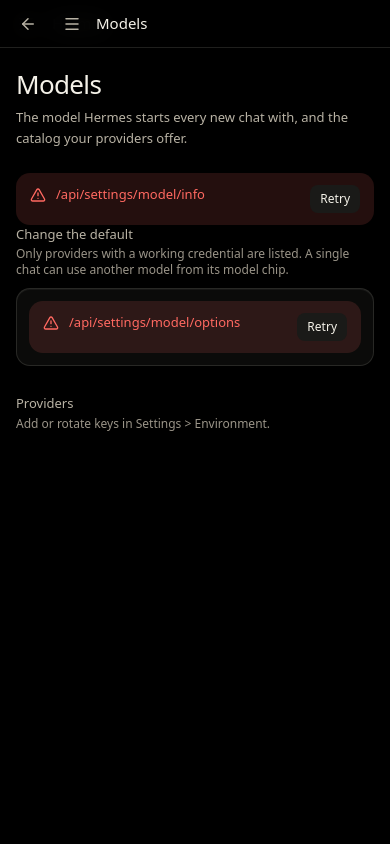
Test case: SettingsLayout mobile shell › opens the drawer with search and all sections
The image size is (390, 844).
Click the button named "Open Settings navigation": coordinates (72, 24) [52,4,92,44]
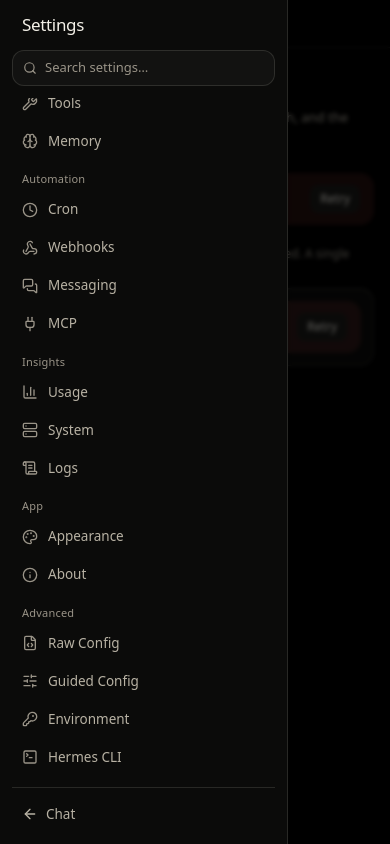
Expected: the button named "Open Settings navigation" is expanded, [52,4,92,44]
Expected: the link "Environment" is shown, [22,710,130,728]
Expected: the link "Hermes CLI" is shown, [22,748,122,766]
